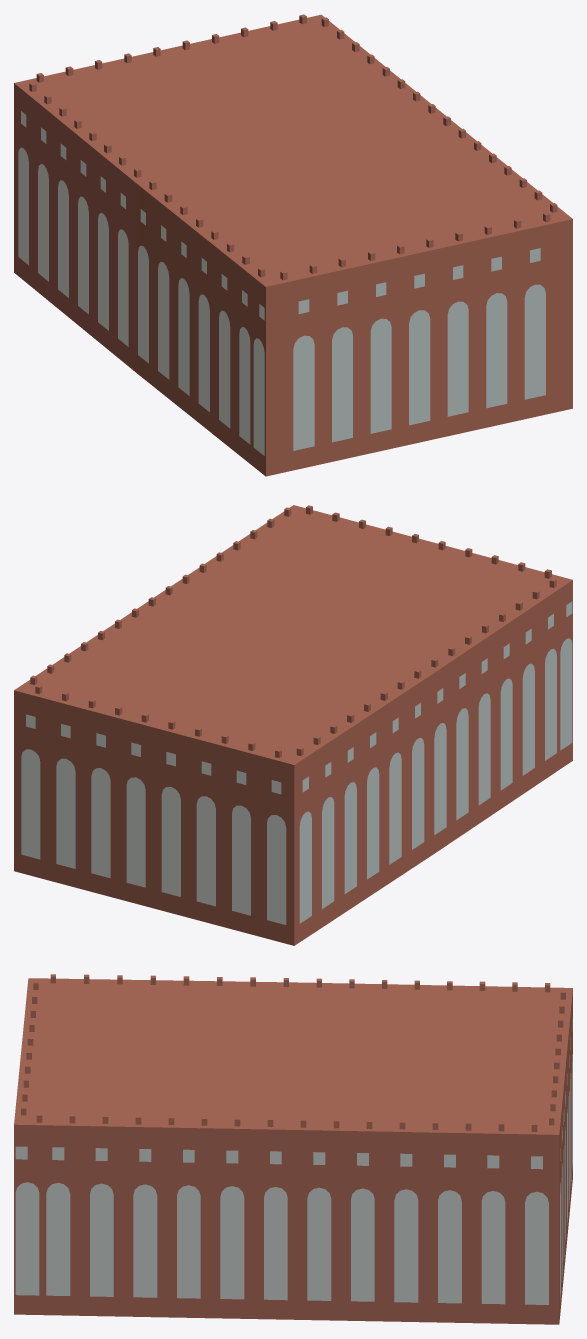
3 views of the same model, one above another, from view 1: azimuth 30°, elevation 25°; view 2: azimuth 150°, elevation 25°; view 3: azimuth 270°, elevation 25° (orthographic). The views are drawn at different scales.
Parts seen in each view (by area): view 1: terracotta, window; view 2: terracotta, window; view 3: terracotta, window.
Boxes of the visible parts, x1=… form: terracotta: x1=14, y1=14, x2=572, y2=476; window: x1=18, y1=111, x2=545, y2=455; terracotta: x1=14, y1=505, x2=572, y2=945; window: x1=21, y1=601, x2=572, y2=924; terracotta: x1=14, y1=974, x2=572, y2=1324; window: x1=15, y1=1019, x2=572, y2=1304.
Bounding box in the file's own units: 34.2 × 20 × 51.5.
